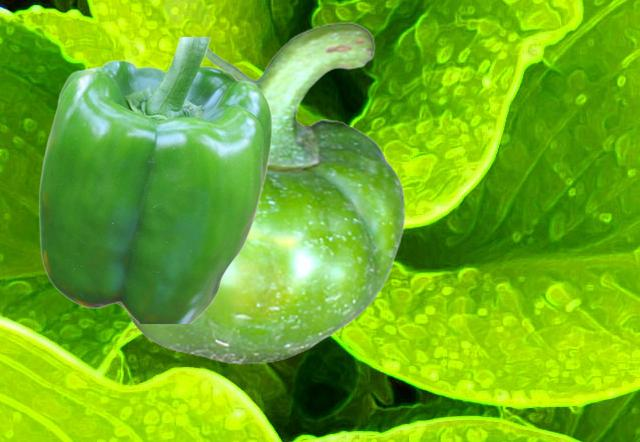bell_pepper: (114, 21, 404, 363), (38, 37, 271, 322)
